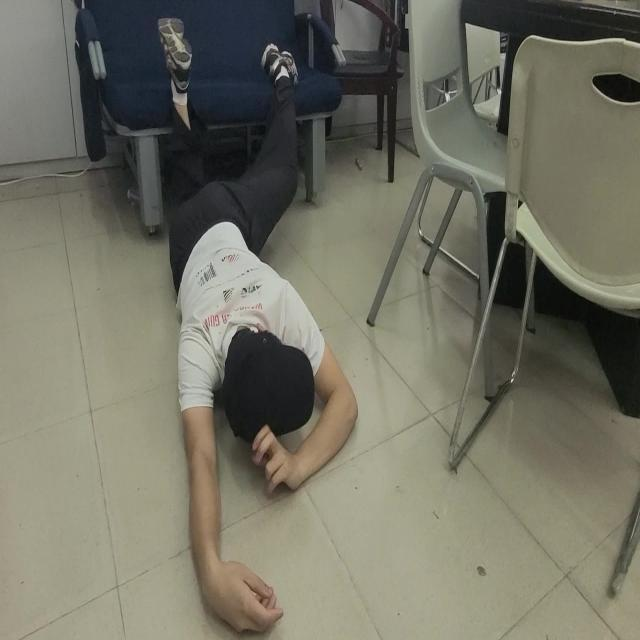fall: (157, 14, 361, 637)
